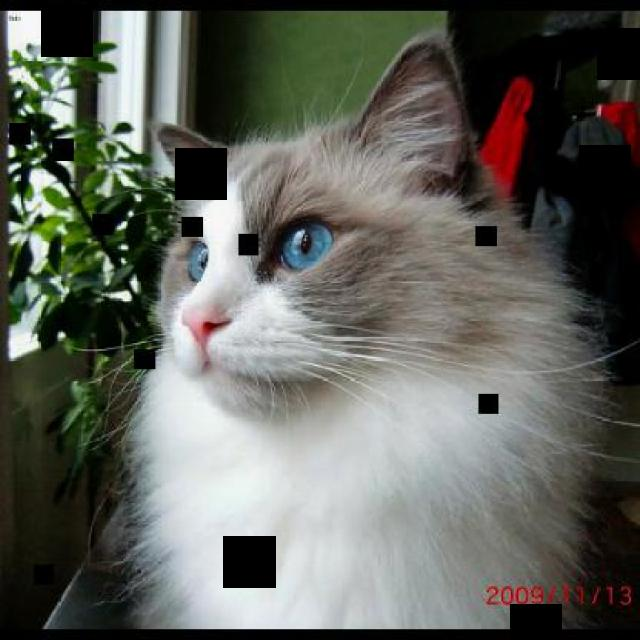unauthorized: (90, 29, 638, 629)
